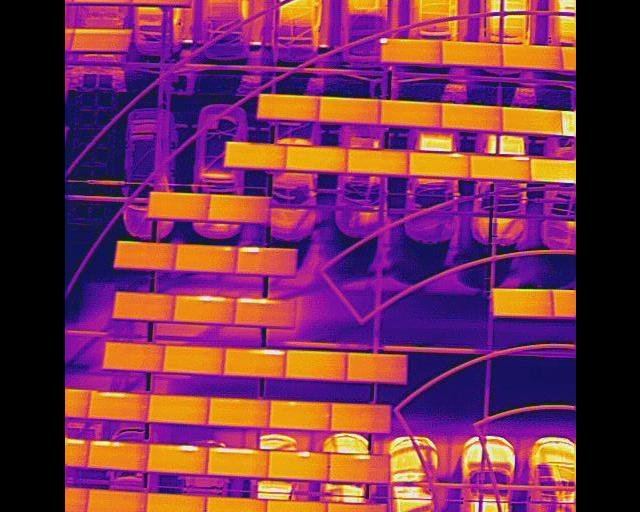Cell: (328, 454, 390, 484), (268, 448, 328, 478), (268, 400, 330, 428), (174, 245, 236, 271), (380, 38, 440, 64), (409, 151, 469, 177)
No-Anomaly: (163, 345, 224, 378), (346, 352, 408, 384), (148, 393, 208, 425), (284, 350, 346, 380), (103, 341, 165, 371), (112, 292, 175, 321), (329, 402, 391, 431), (256, 93, 317, 122), (438, 102, 501, 130), (224, 141, 285, 169), (208, 398, 269, 426), (283, 143, 346, 170), (207, 196, 272, 222), (502, 106, 560, 135), (148, 191, 210, 218), (492, 289, 550, 317), (115, 241, 175, 268), (441, 40, 501, 67), (346, 148, 408, 174), (68, 28, 132, 52), (501, 43, 561, 68), (377, 100, 439, 124), (317, 97, 379, 120), (86, 489, 146, 512), (144, 493, 206, 512), (530, 157, 576, 180), (204, 496, 265, 512), (265, 499, 326, 512), (327, 503, 387, 512), (130, 0, 193, 5)
Unclassified: (87, 388, 148, 421), (206, 445, 268, 477), (86, 440, 149, 471), (222, 347, 284, 378), (145, 444, 208, 473), (235, 246, 298, 275), (173, 295, 234, 324), (233, 298, 295, 325), (469, 154, 529, 179)
